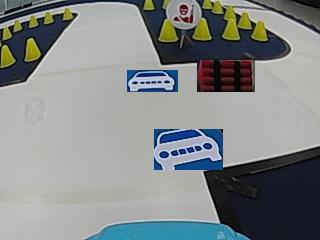evil: (167, 0, 201, 29)
